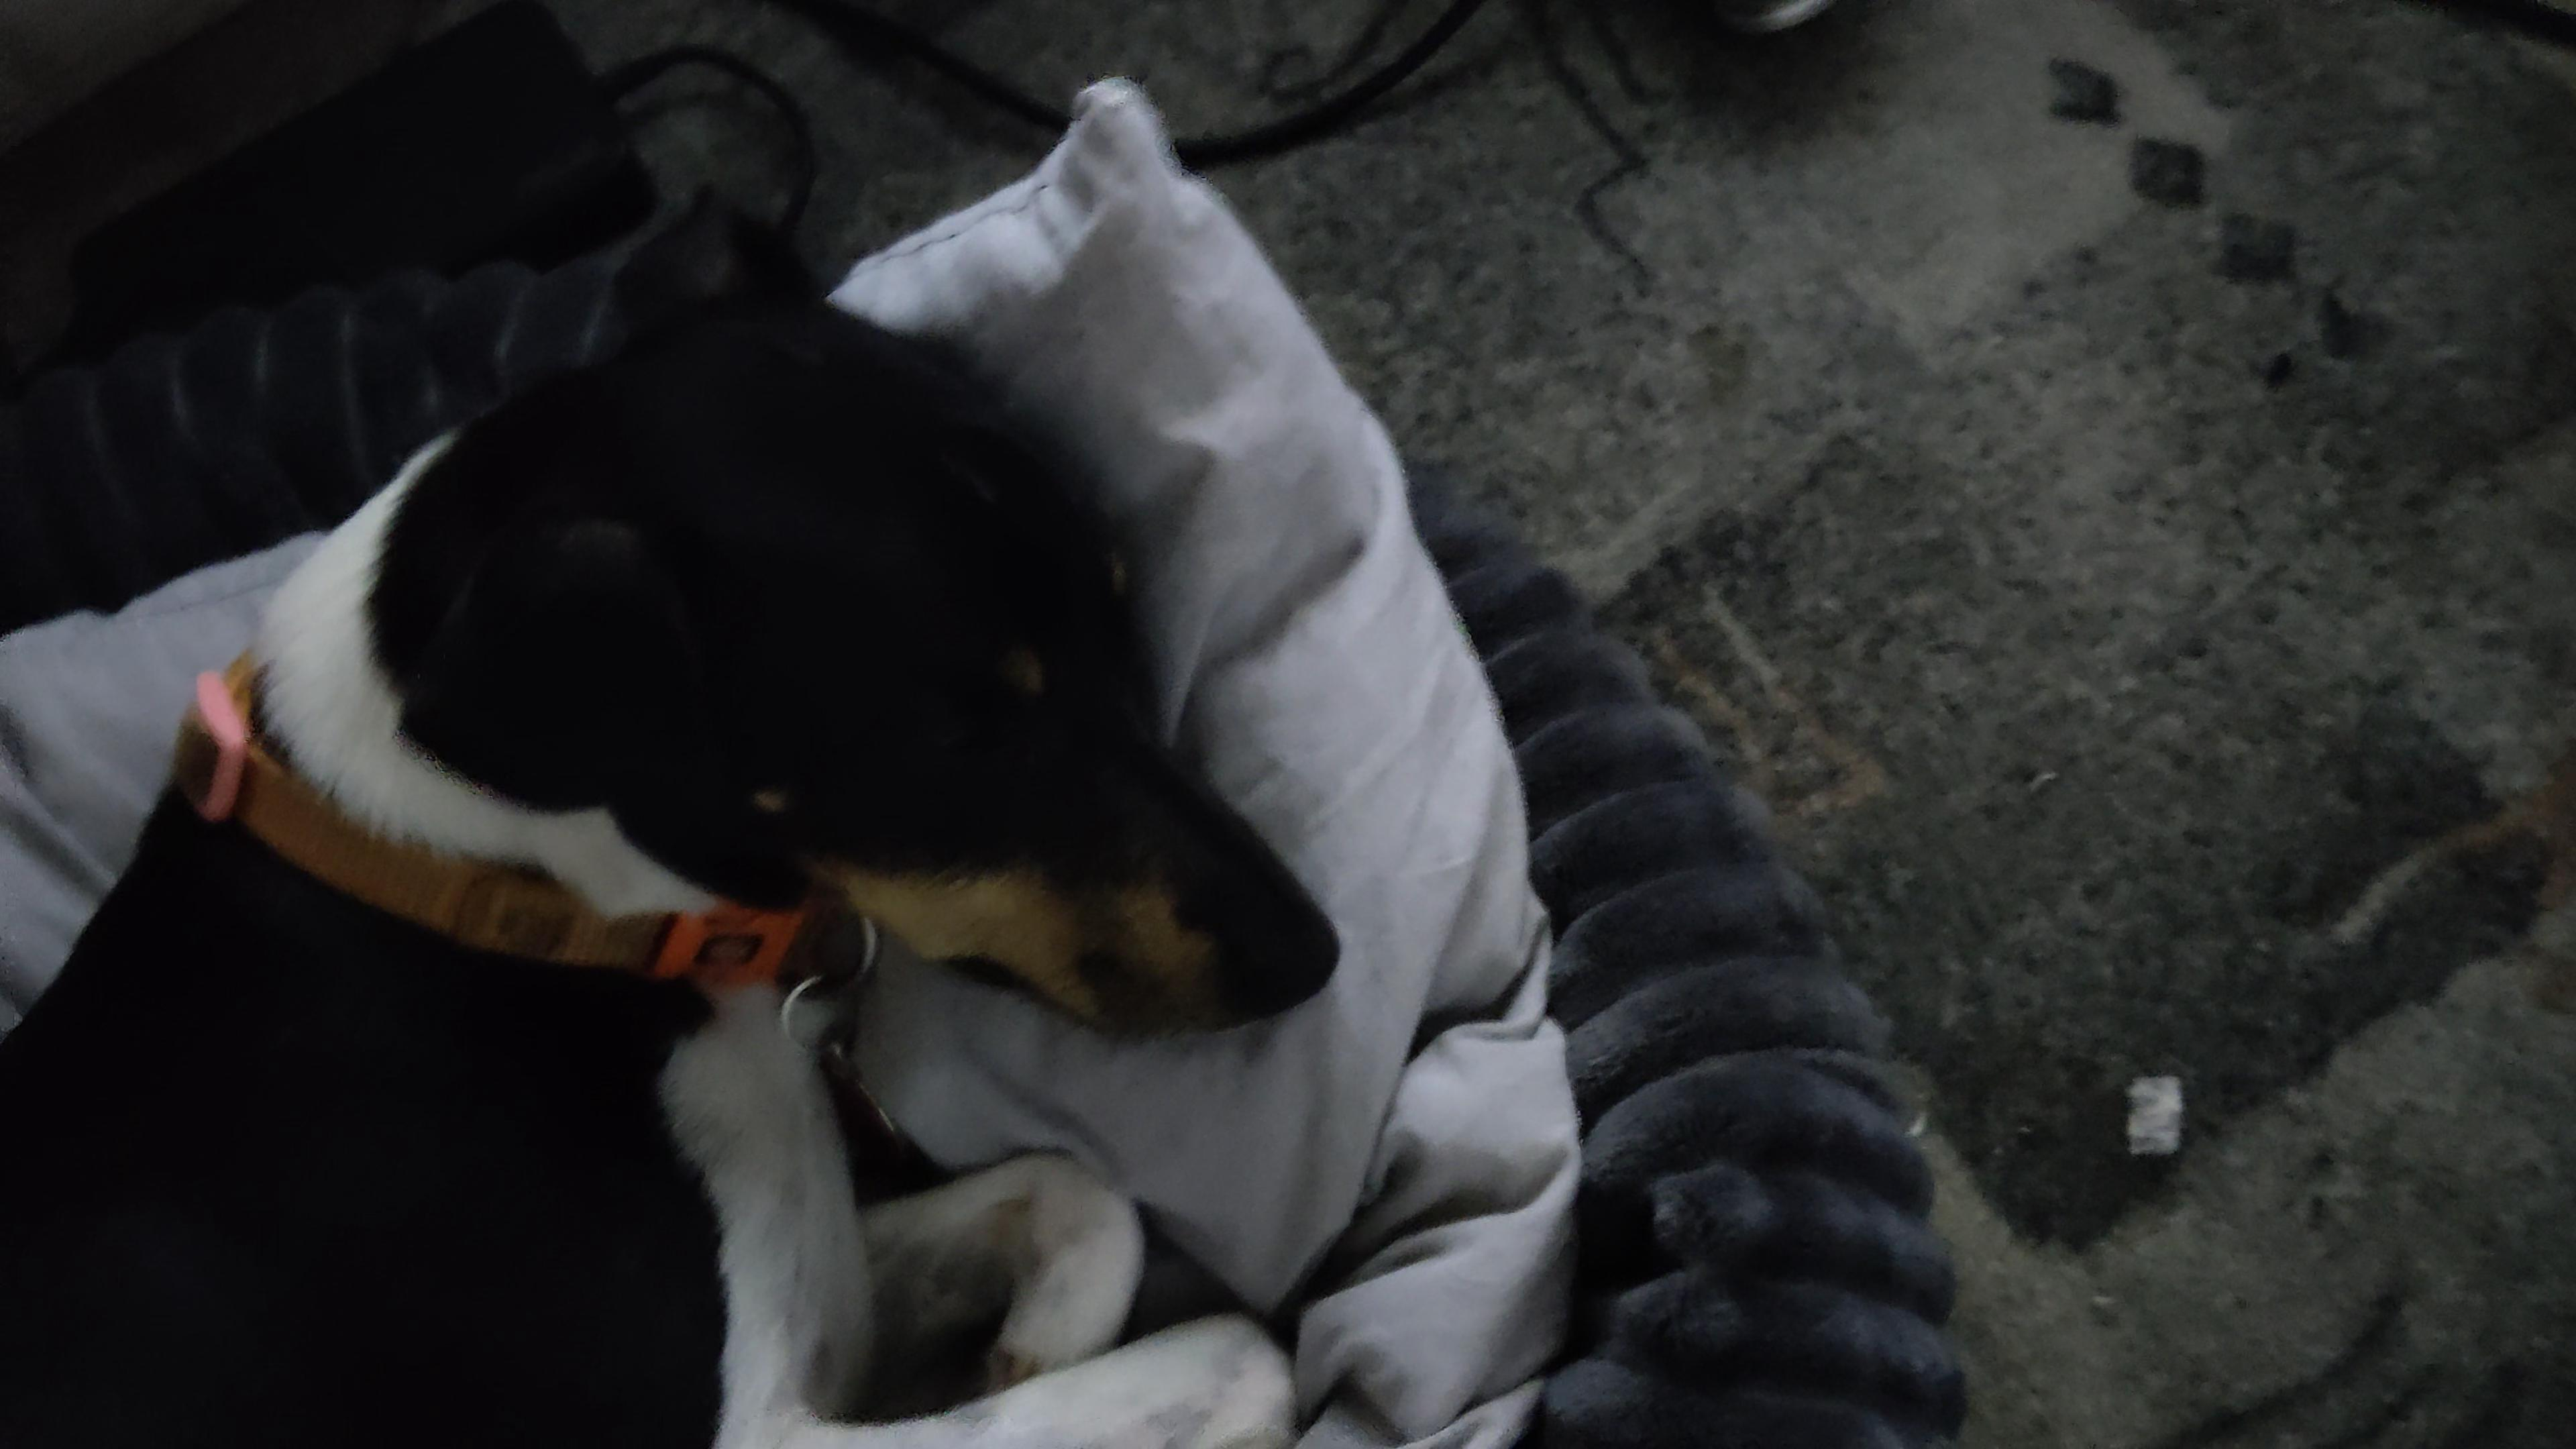Dog: (0, 172, 1385, 1449)
